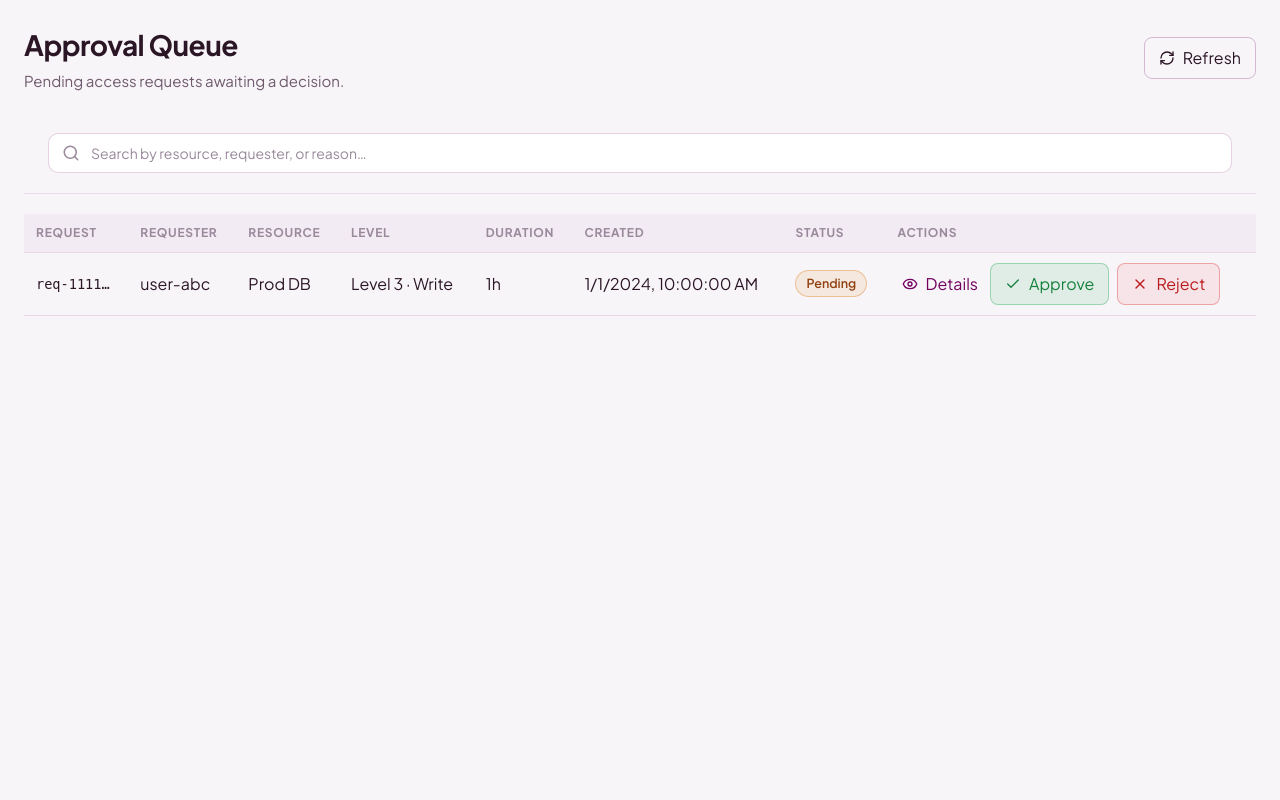
Test case: ApprovalQueue › requires a reason before rejecting
Click the button "Reject" at (1169, 284), box [1118,262,1220,304]
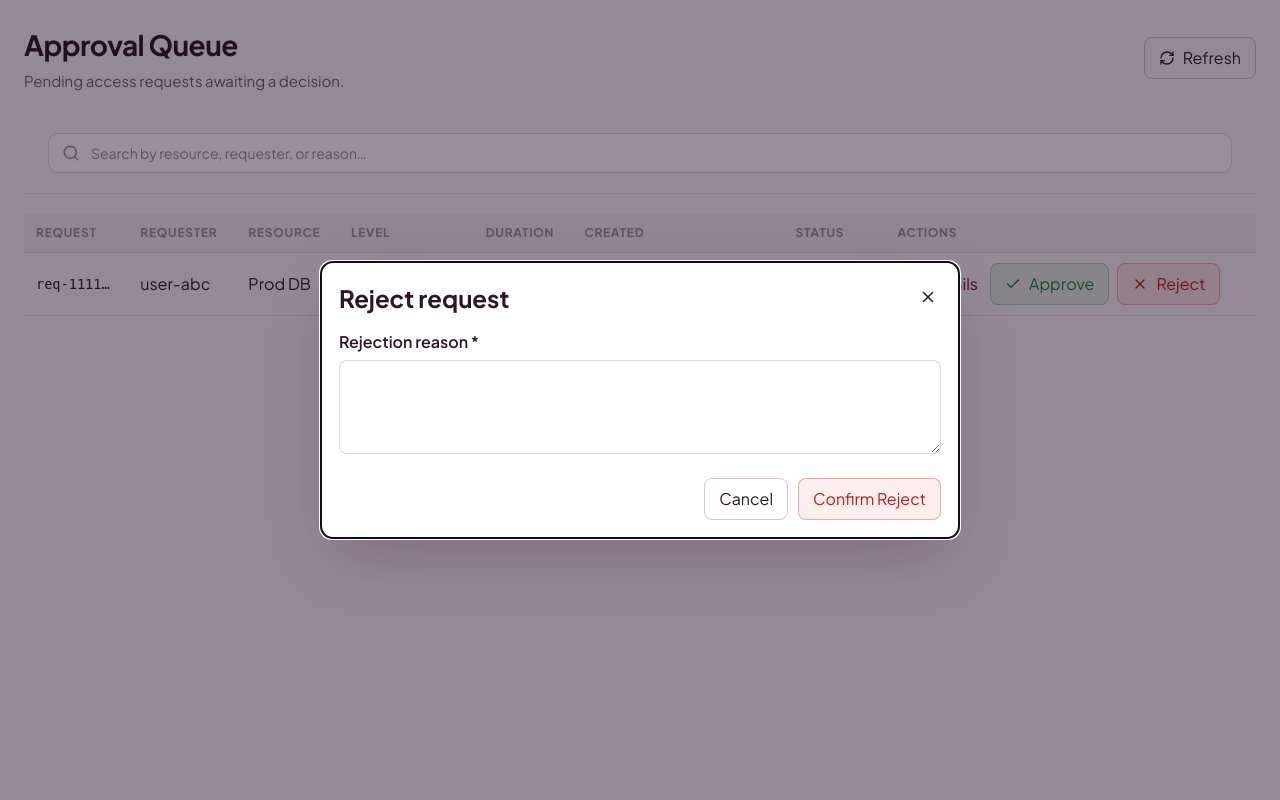
Click the button "Confirm Reject" at (870, 499), box [798,478,941,520]
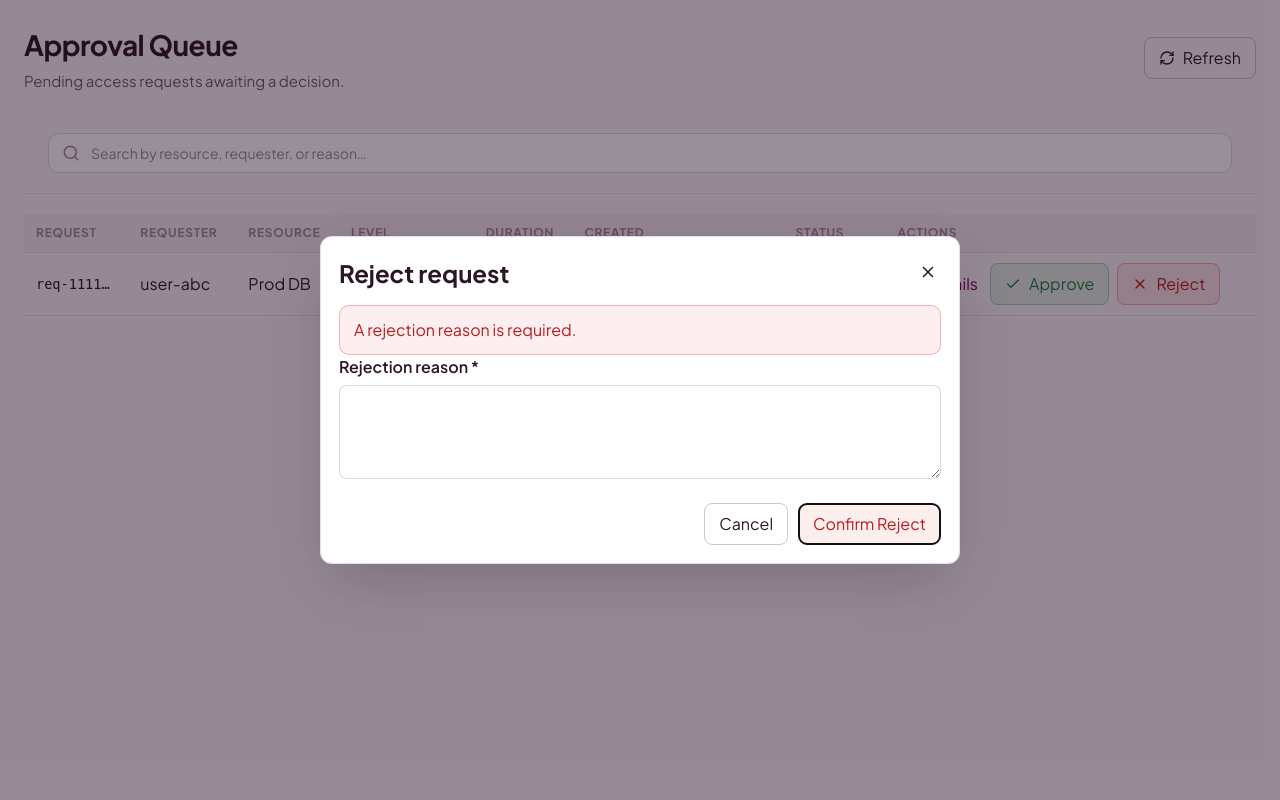
Expected: the text "A rejection reason is required." is shown, [339,305,941,355]
